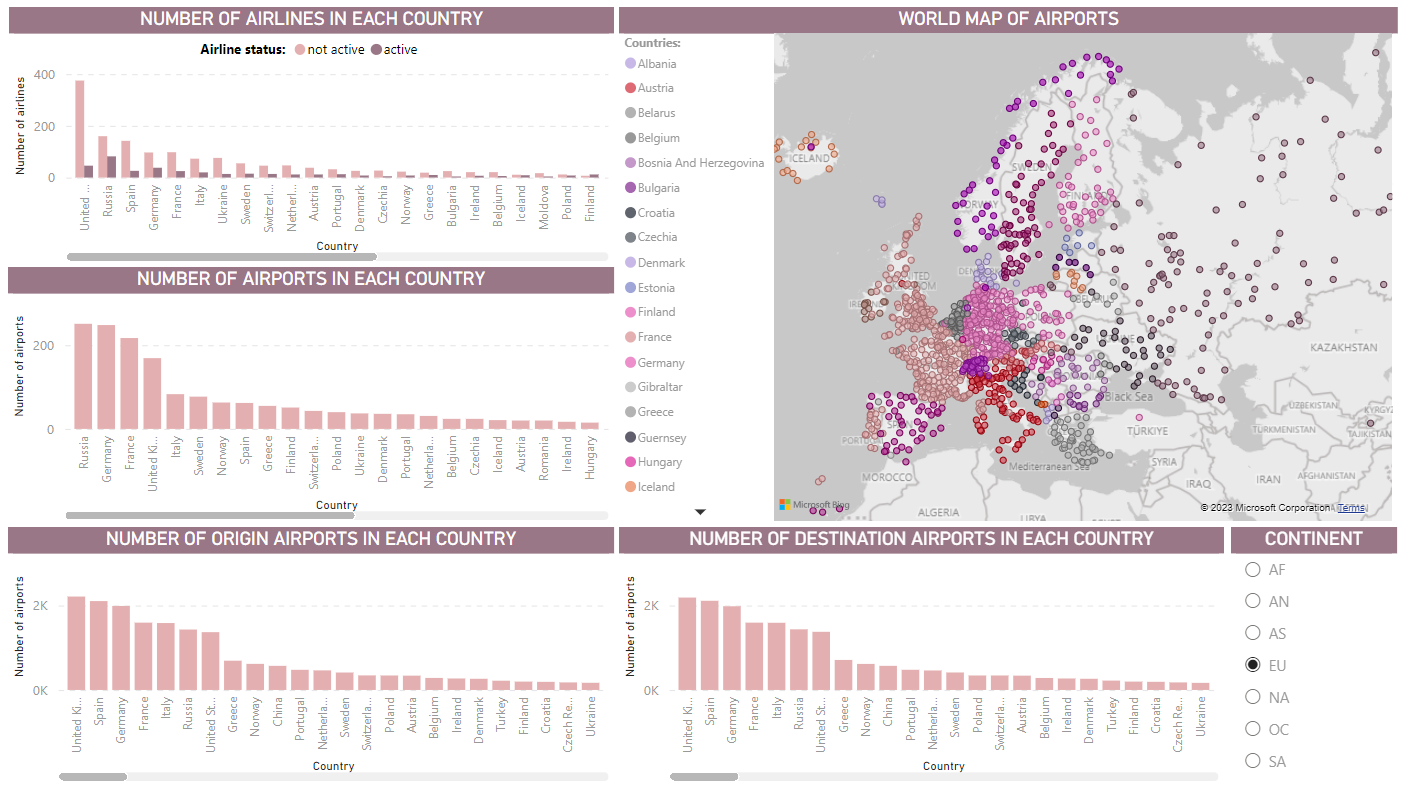

The dashboard page shown, as its layout file describes it:
{"tool":"powerbi","page":{"name":"The most popular country","canvas":[1280,720],"ordinal":1},"visuals":[{"type":"map","title":"WORLD MAP OF AIRPORTS","fields":{"Series":["airport_view.country"],"Category":["airport_view.city"]},"box":[565.3,10.7,708,472],"z":1000},{"type":"clusteredColumnChart","title":"NUMBER OF AIRLINES IN EACH COUNTRY","fields":{"Category":["airline_view.country_name"],"Y":["Count(airline_view.id)"],"Series":["airline_view.is_active"]},"box":[10.7,10.7,550.1,236.1],"z":1002},{"type":"clusteredColumnChart","title":"NUMBER OF AIRPORTS IN EACH COUNTRY","fields":{"Category":["airport_view.country"],"Y":["Count(airport_view.id)"]},"box":[10,247.3,550.9,235.5],"z":1003},{"type":"clusteredColumnChart","title":"NUMBER OF ORIGIN AIRPORTS IN EACH COUNTRY","fields":{"Category":["route_info_view.origin_airport_country"],"Y":["Count(route_info_view.id)"]},"box":[10,483.6,550.9,236.4],"z":1004},{"type":"clusteredColumnChart","title":"NUMBER OF DESTINATION AIRPORTS IN EACH COUNTRY","fields":{"Category":["route_info_view.destination_airport_country"],"Y":["Count(route_info_view.id)"]},"box":[565.5,483.6,550,236.4],"z":1005},{"type":"slicer","title":"CONTINENT","fields":{"Values":["country_view.continent"]},"box":[1121.8,483.6,150.9,236.4],"z":1006}]}

Visuals, with their boxes in screenshot pixels (x1, y1, x2, y2), scaled from the page's 1280x720 canvas onto the 1401x785 screenshot:
"WORLD MAP OF AIRPORTS" map: x1=619 y1=12 x2=1394 y2=526
"NUMBER OF AIRLINES IN EACH COUNTRY" clusteredColumnChart: x1=12 y1=12 x2=614 y2=269
"NUMBER OF AIRPORTS IN EACH COUNTRY" clusteredColumnChart: x1=11 y1=270 x2=614 y2=526
"NUMBER OF ORIGIN AIRPORTS IN EACH COUNTRY" clusteredColumnChart: x1=11 y1=527 x2=614 y2=784
"NUMBER OF DESTINATION AIRPORTS IN EACH COUNTRY" clusteredColumnChart: x1=619 y1=527 x2=1221 y2=784
"CONTINENT" slicer: x1=1228 y1=527 x2=1393 y2=784
